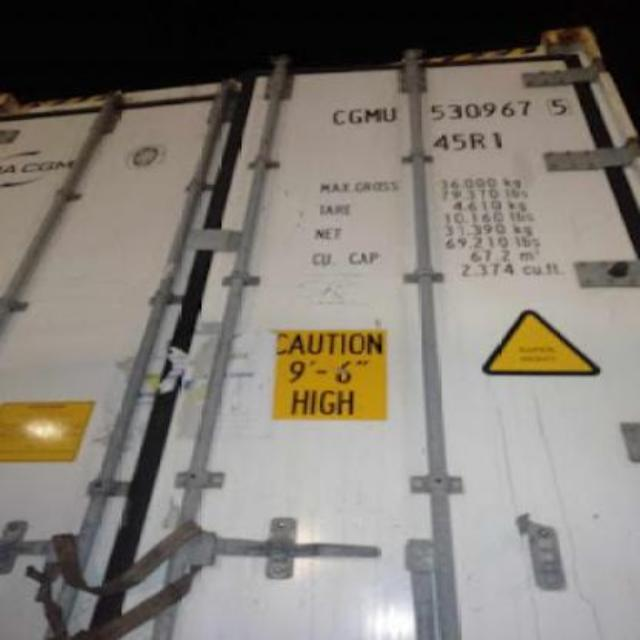0: (464, 98, 480, 124)
3: (446, 100, 462, 128)
5: (548, 95, 576, 122), (426, 98, 446, 126)
6: (501, 94, 514, 122)
7: (514, 96, 538, 128)
9: (482, 100, 498, 124)
C: (330, 104, 346, 128)
G: (346, 100, 364, 130)
M: (366, 94, 382, 134)
U: (382, 100, 400, 130)
